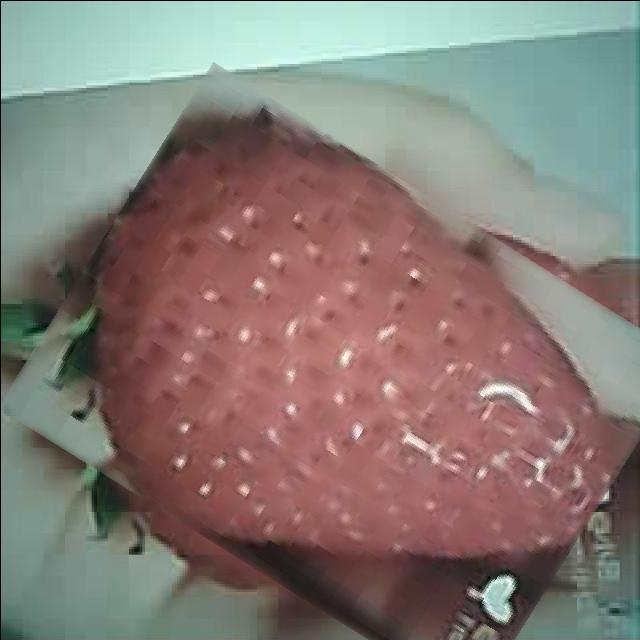strawberry: (30, 120, 640, 640)
